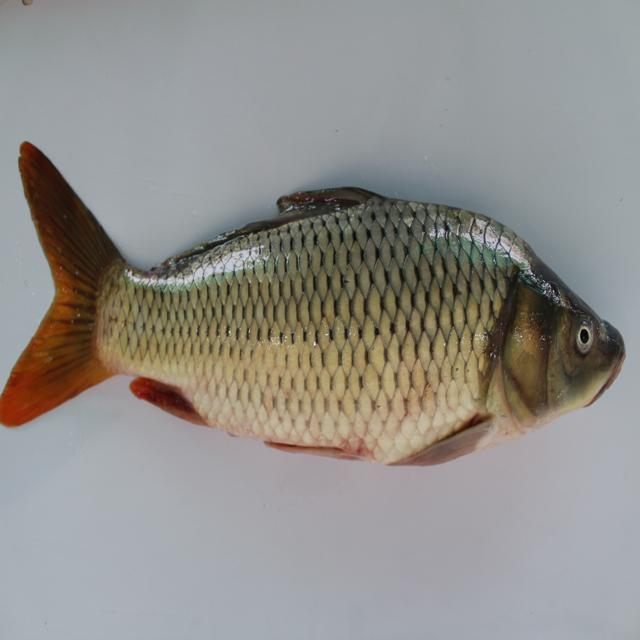CommonCarp: (5, 128, 625, 482)
